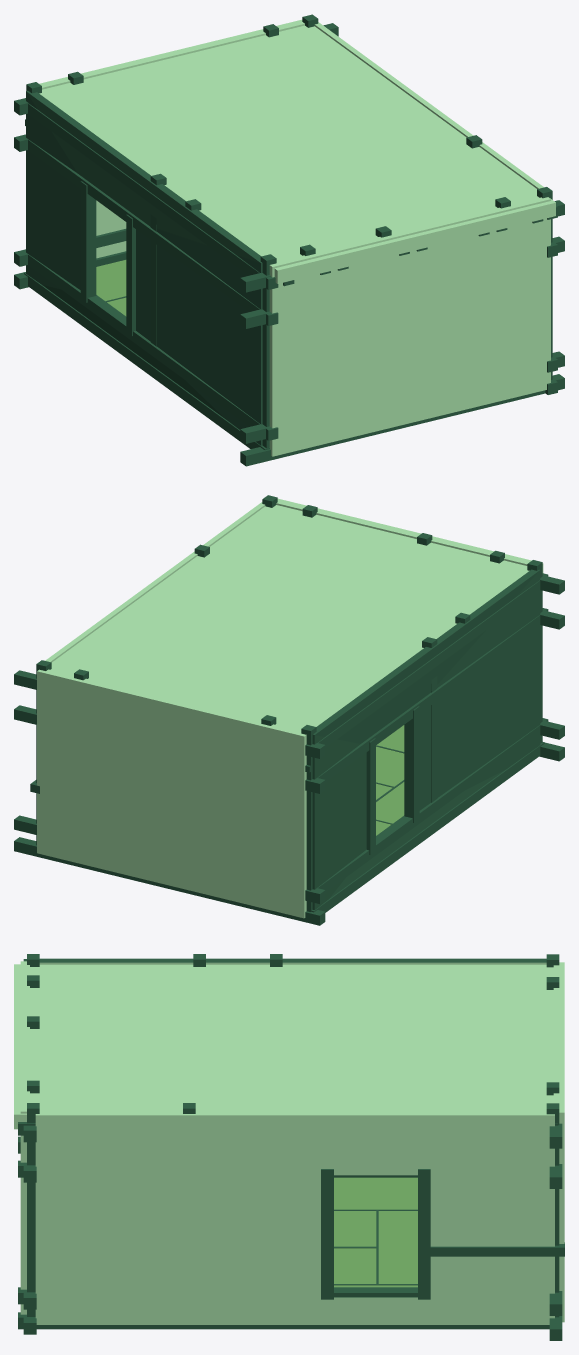
The model's file is RoomScale.fbx.
3 renders of one model, top to bottom at view 1: azimuth 30°, elevation 25°; view 2: azimuth 150°, elevation 25°; view 3: azimuth 270°, elevation 25°, orthographic. The views are drawn at different scales.
Parts seen in each view (by area): view 1: Room; view 2: Room; view 3: Room.
Boxes of the visible parts, left/top/right/bottom form: Room: left=14, top=14, right=564, bottom=466; Room: left=14, top=495, right=564, bottom=925; Room: left=14, top=954, right=564, bottom=1340.
Bounding box in the file's own units: 660 × 380 × 862.
